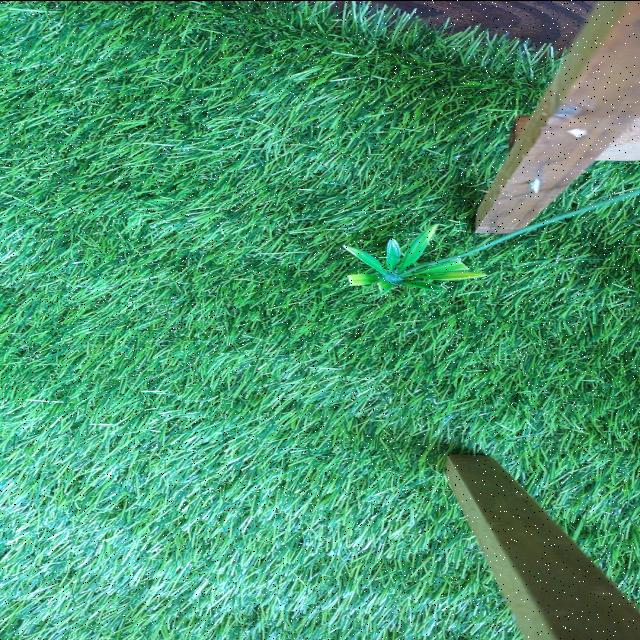base: (340, 222, 482, 298)
